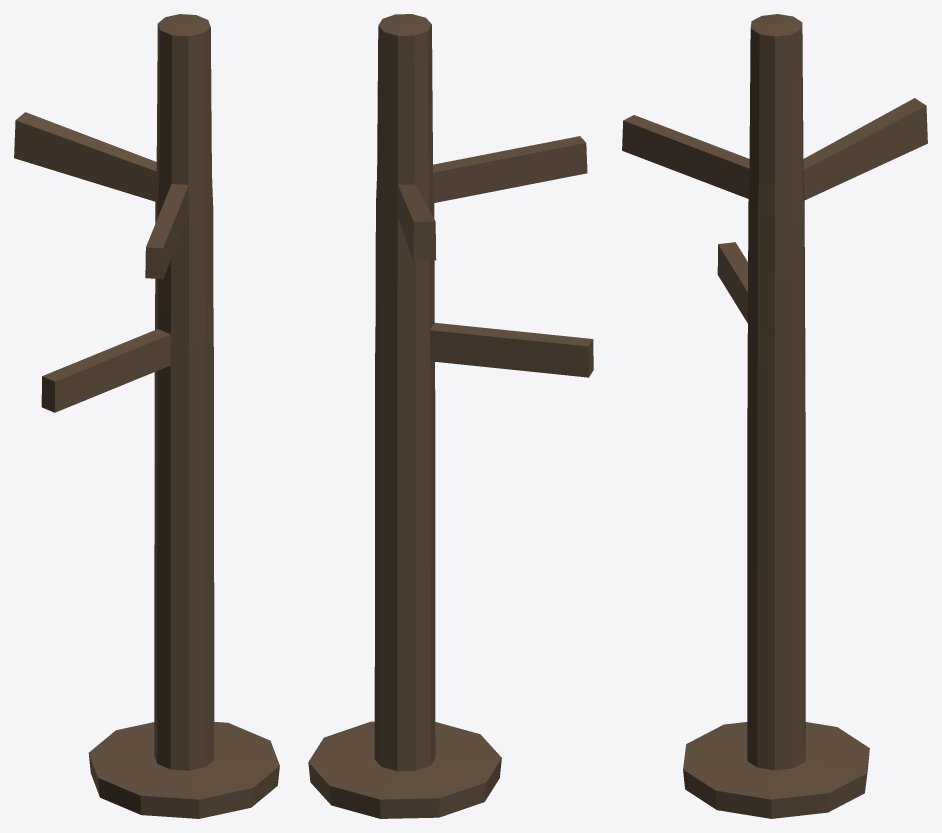
File: Colgador.fbx
The picture shows the model from 3 angles, left to right: view 1: azimuth 30°, elevation 25°; view 2: azimuth 150°, elevation 25°; view 3: azimuth 270°, elevation 25°; orthographic projection.
Visible parts, largest first — view 1: Colgador; view 2: Colgador; view 3: Colgador.
Boxes of the visible parts, x1,y1,x2,y2 form: Colgador: (14,14,279,818); Colgador: (308,14,593,818); Colgador: (622,14,927,818).
Bounding box in the file's own units: 0.8779 × 2.57 × 0.943.
